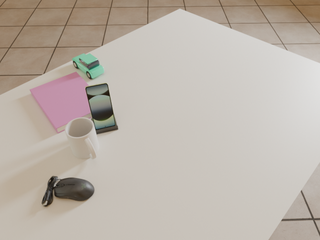book: (30, 72, 92, 133)
cup: (65, 118, 99, 159)
mouse: (42, 176, 94, 207)
phone: (85, 83, 116, 130)
toy_car: (72, 53, 104, 79)
